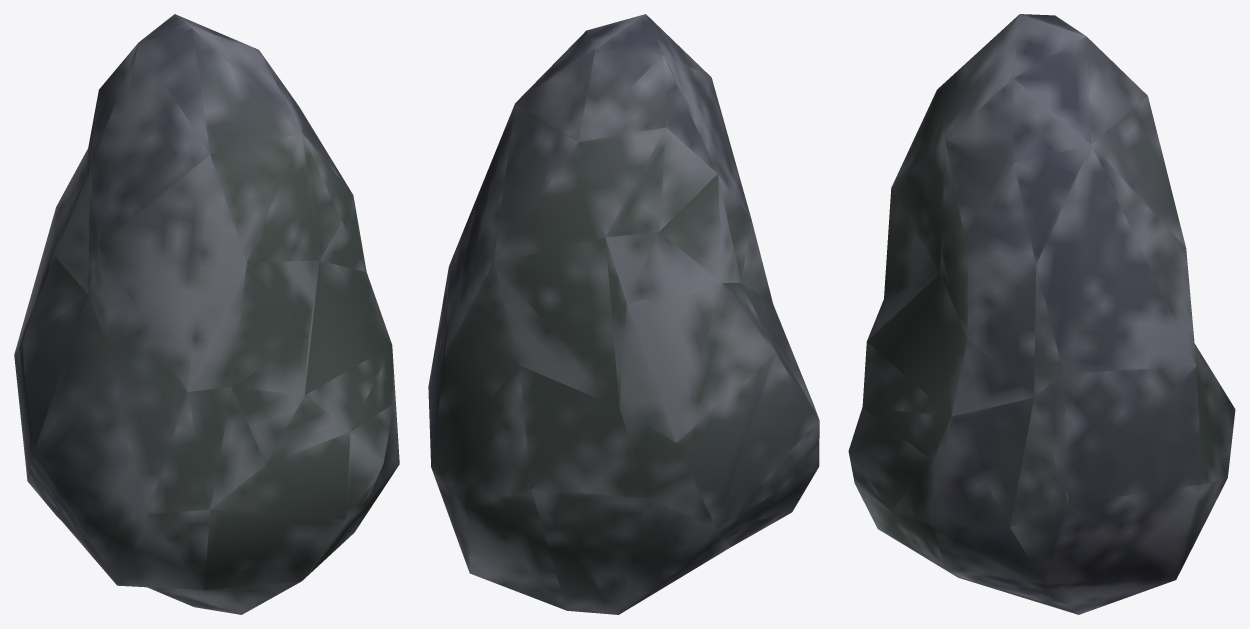
The model's file is Rock_07.fbx.
3 views of the same model, side by side, from view 1: azimuth 30°, elevation 25°; view 2: azimuth 150°, elevation 25°; view 3: azimuth 270°, elevation 25° (orthographic). The views are drawn at different scales.
Parts seen in each view (by area): view 1: Rock_07; view 2: Rock_07; view 3: Rock_07.
Part boxes in pixels (left/top/right/bottom): Rock_07: left=14, top=14, right=399, bottom=614; Rock_07: left=428, top=14, right=819, bottom=614; Rock_07: left=848, top=14, right=1235, bottom=614.
Bounding box in the file's own units: 318 × 493 × 301.
1 material, 1 textured.
